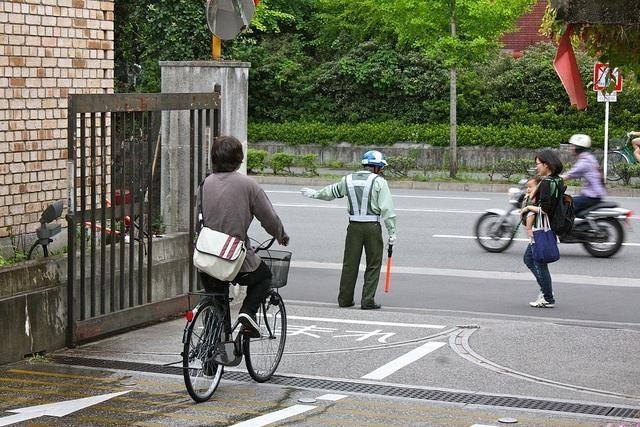bicycle: (168, 235, 294, 405), (600, 133, 638, 183)
motorcycle: (475, 174, 637, 260)
